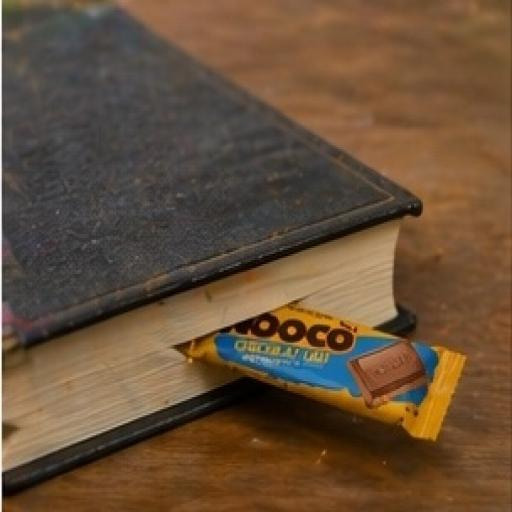nooco: (184, 238, 485, 484)
